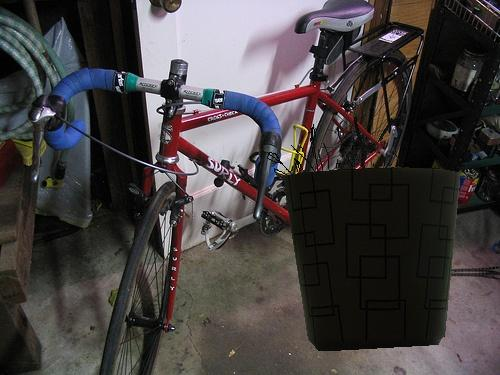tampered: (268, 117, 460, 351)
